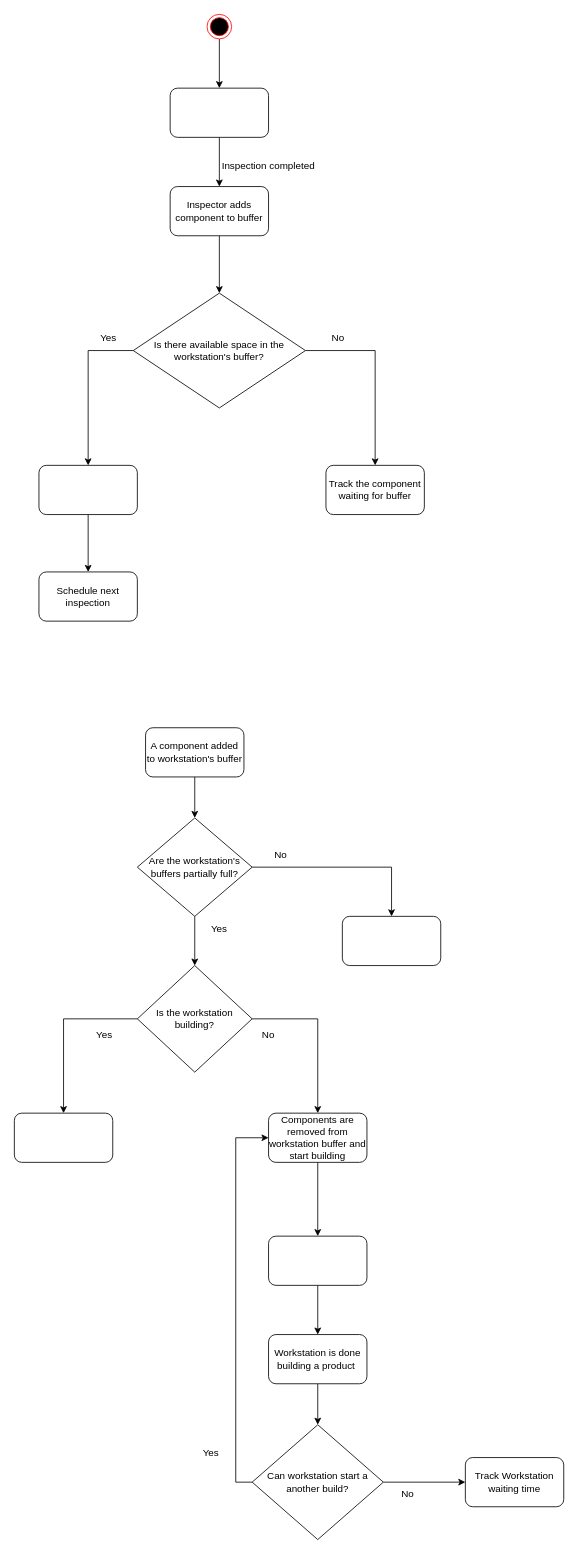
The diagram is 578 pixels wide and 1554 high, and some of its shapes have lost their labels. Here are the shapes that lost their labels. From the top down, the centre of each, then its label:
point (219, 112): Inspector starts inspecting component
point (87, 490): Add component to the workstation's buffer
point (391, 941): Wait until other component of a kind is added
point (63, 1137): Wait until the workstation is done building
point (317, 1260): Add components waiting to be added to buffer/ Track time for end of wait
